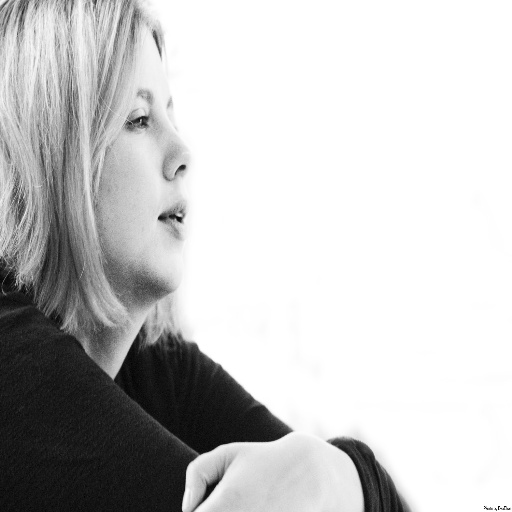hand: (181, 430, 335, 510)
